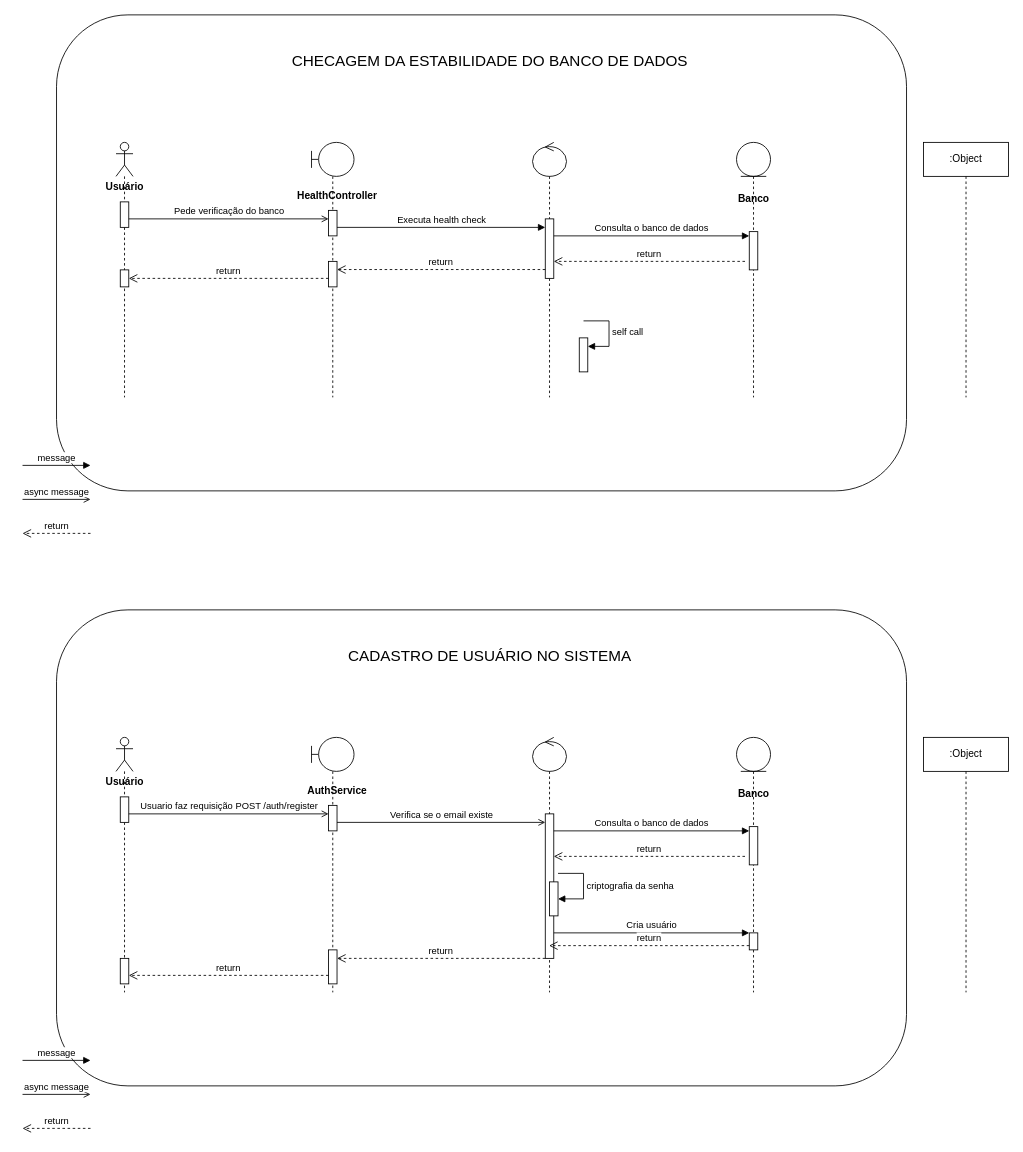
Image size: 1023x1152. Some labels were removed from this diagram. Each missing label, with the centre of its shape:
"HealthService" belongs at point 549,269.
"UserRepository" belongs at point 549,864.
